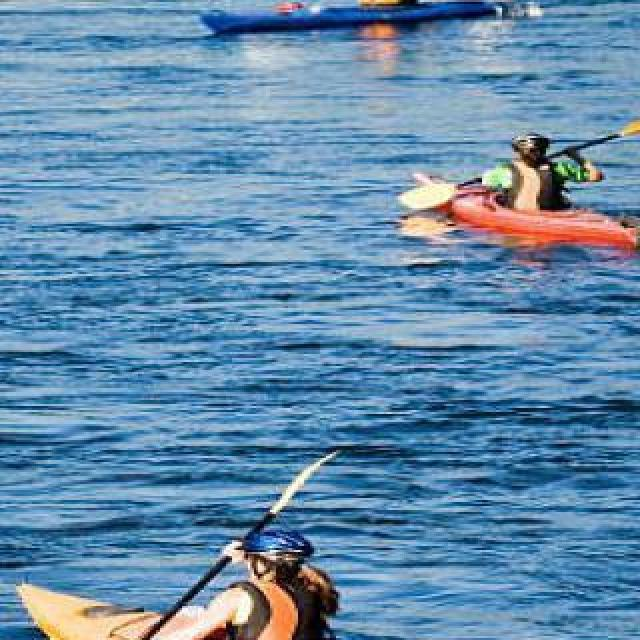kayak: (22, 452, 336, 640), (402, 174, 640, 243), (201, 0, 502, 33)
